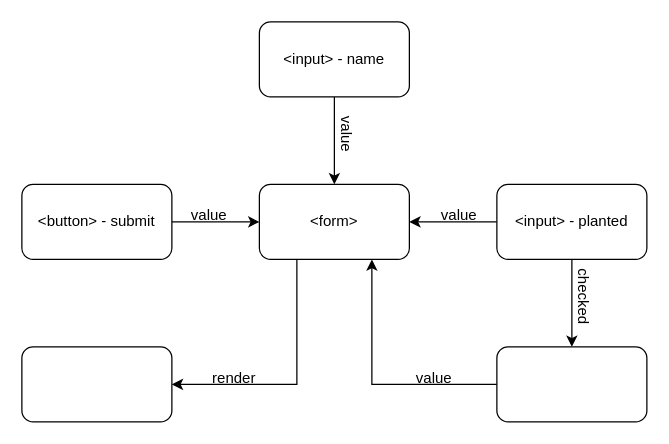
This 669x444 diagram has some shape labels left out. The shapes that lost their labels are listed below. From the top down, each one's centre as x and y in pixels, then its label:
the point at 96,384: <ul> - vegetables
the point at 571,384: <input> - amount
